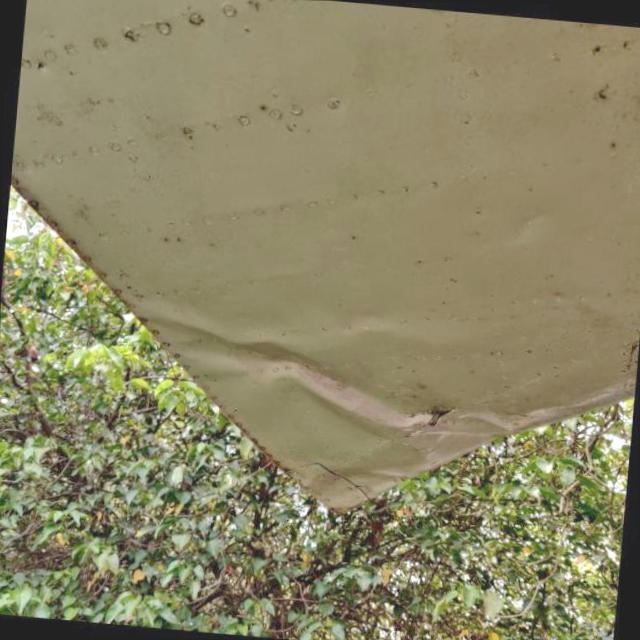dent: (128, 287, 442, 458), (438, 373, 637, 452), (276, 450, 424, 510)
